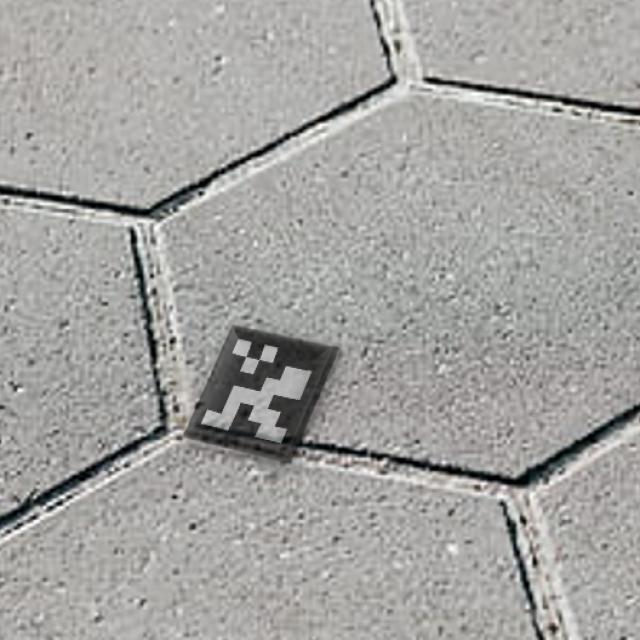marker: (179, 313, 342, 470)
